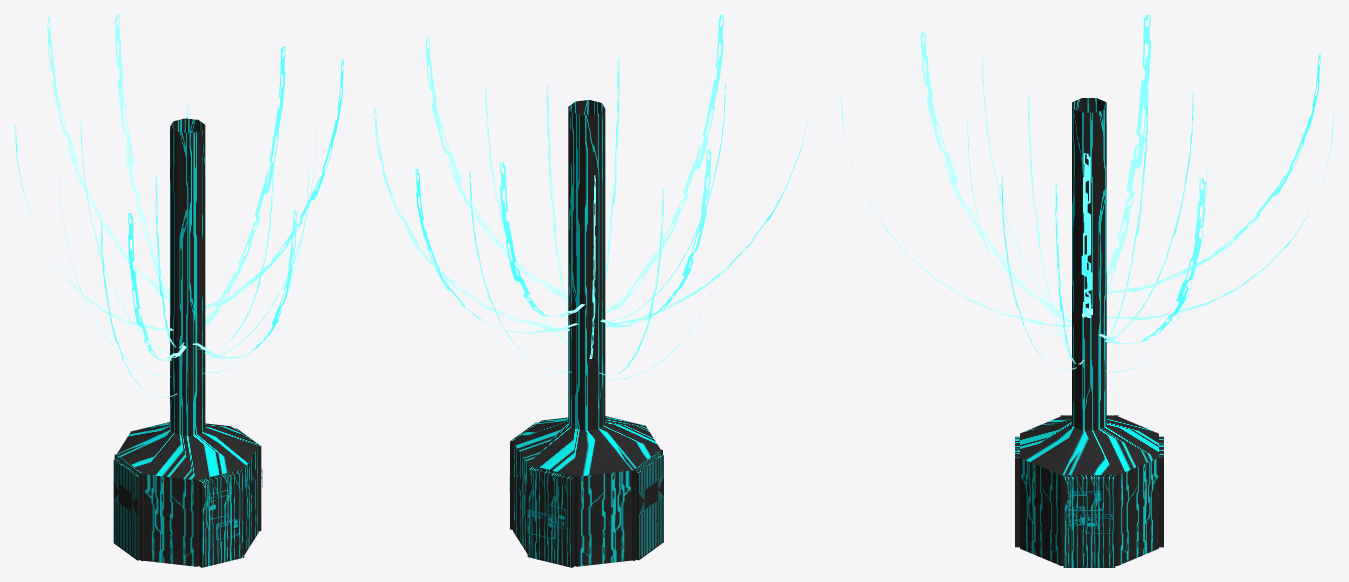
Rendered from Data Center.fbx.
3 renders of one model, left to right at view 1: azimuth 30°, elevation 25°; view 2: azimuth 150°, elevation 25°; view 3: azimuth 270°, elevation 25°, orthographic. The views are drawn at different scales.
Parts seen in each view (by area): view 1: Body, Cables; view 2: Body, Cables; view 3: Body, Cables, Interfaces.
Part boxes in pixels (bbox=[...]): Body: bbox=[113, 118, 261, 567]; Cables: bbox=[14, 14, 343, 397]; Body: bbox=[510, 100, 663, 567]; Cables: bbox=[374, 14, 808, 380]; Body: bbox=[1015, 98, 1163, 567]; Cables: bbox=[840, 14, 1334, 372]; Interfaces: bbox=[1066, 491, 1113, 533].
Bounding box in the file's own units: 728 × 1030 × 987.
Materials: 3 (1 with a texture image).
